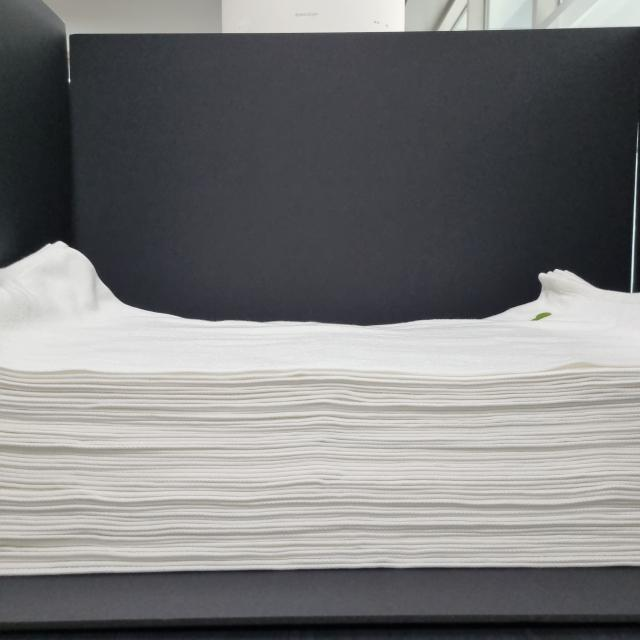50_towel_counts: (0, 222, 640, 570)
